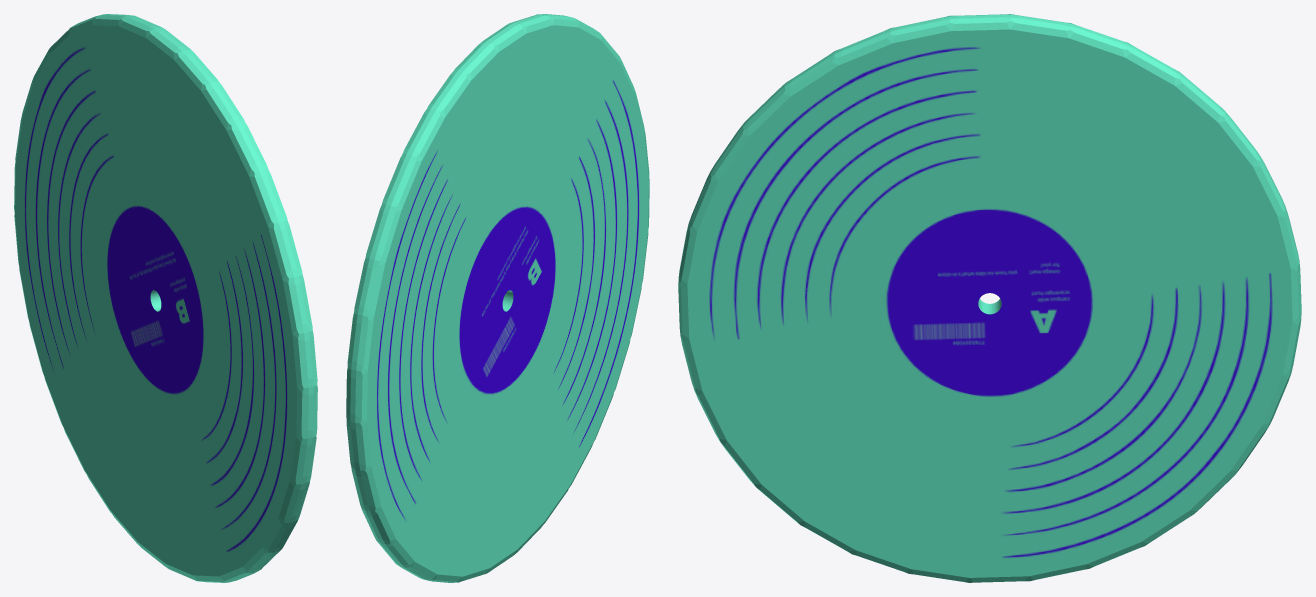
The model's file is CostaCrittersVinyl.glb.
3 views of the same model, side by side, from view 1: azimuth 30°, elevation 25°; view 2: azimuth 150°, elevation 25°; view 3: azimuth 270°, elevation 25° (orthographic). The views are drawn at different scales.
Parts seen in each view (by area): view 1: Cylinder.001; view 2: Cylinder.001; view 3: Cylinder.001.
Boxes of the visible parts, left/top/right/bottom form: Cylinder.001: left=14, top=14, right=317, bottom=582; Cylinder.001: left=346, top=14, right=649, bottom=582; Cylinder.001: left=678, top=14, right=1301, bottom=582.
Bounding box in the file's own units: 0.0503 × 1.27 × 1.27.
1 material, 1 textured.
